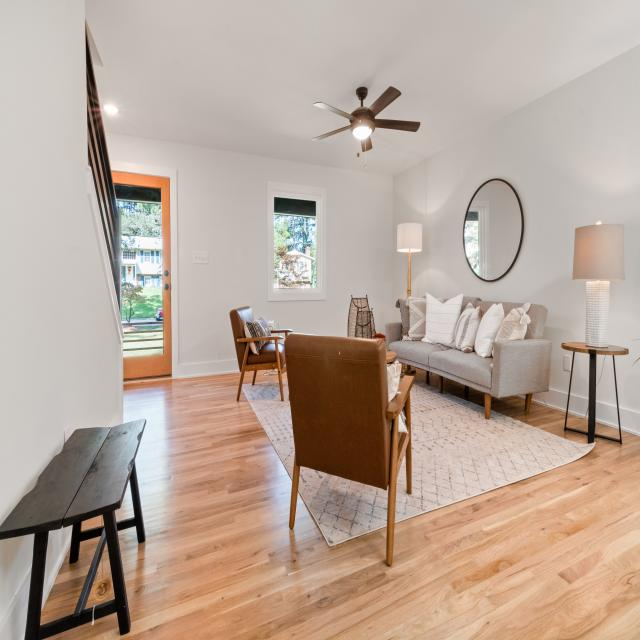floor: (43, 372, 640, 640), (40, 536, 101, 625), (490, 396, 588, 444), (85, 541, 116, 609), (115, 479, 135, 521), (443, 377, 465, 400), (400, 366, 426, 384), (595, 422, 620, 440), (566, 413, 589, 432), (80, 515, 104, 531), (469, 387, 485, 407), (429, 372, 440, 390), (242, 371, 254, 384), (255, 370, 266, 383), (270, 375, 279, 381), (281, 372, 287, 379), (270, 372, 278, 374), (267, 376, 269, 381), (267, 372, 269, 374), (267, 370, 269, 372)
wall: (393, 45, 640, 437), (104, 132, 393, 379), (596, 355, 619, 430), (568, 352, 590, 420)
